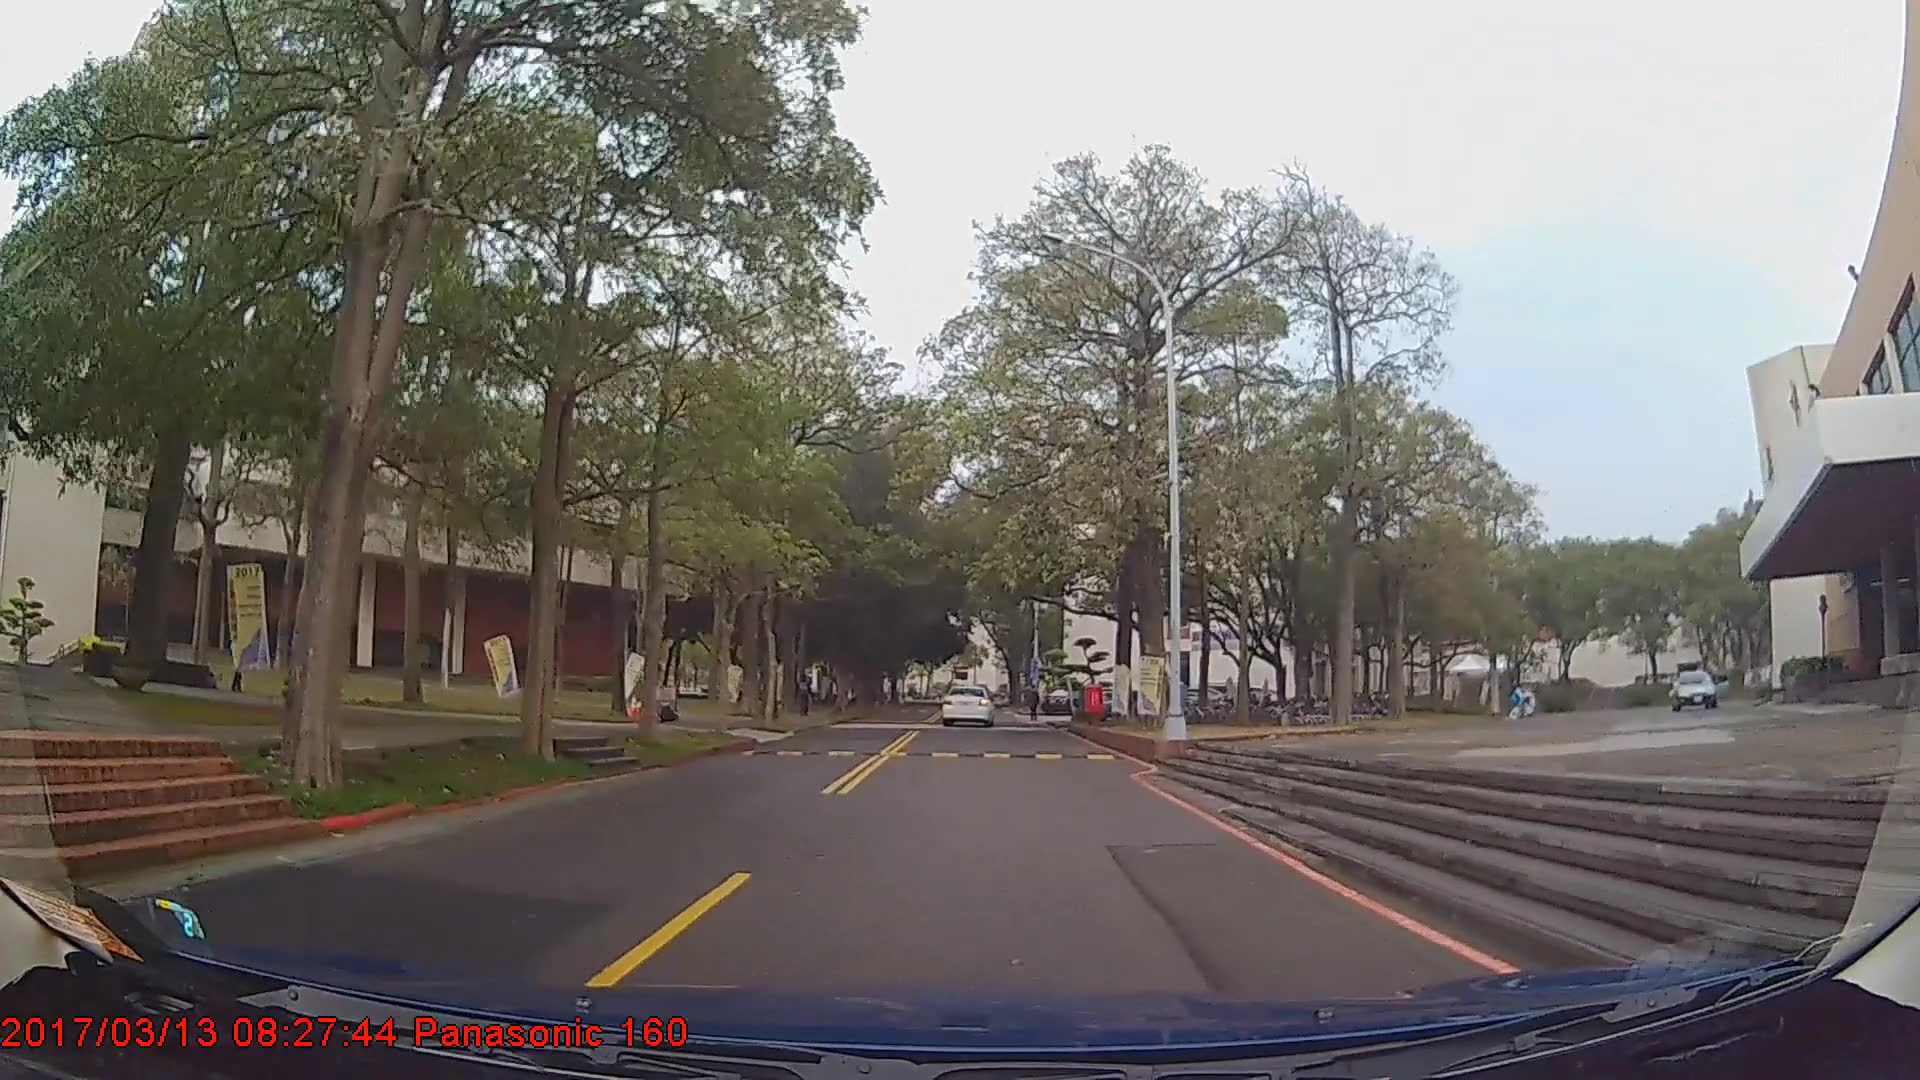pedestrian: (226, 629, 247, 694)
vehicle: (1667, 663, 1733, 709), (939, 684, 995, 728)
